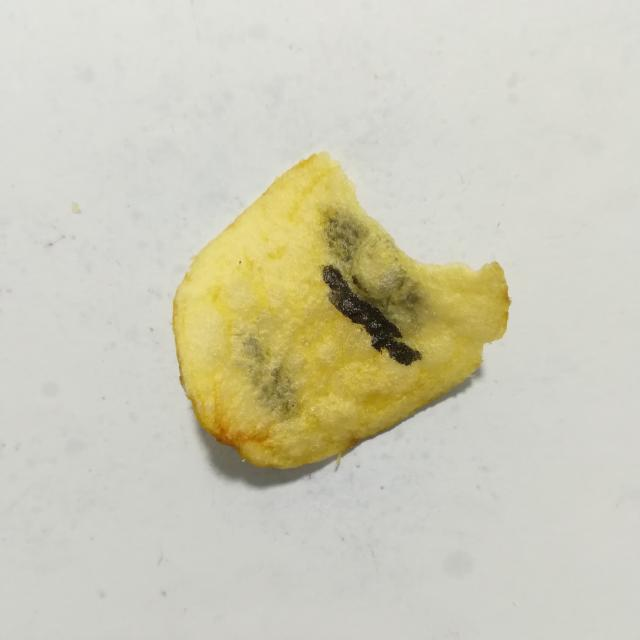chip: (173, 154, 510, 468)
damaged: (323, 265, 421, 365)
semi-damaged: (325, 208, 426, 336), (239, 333, 297, 414)
